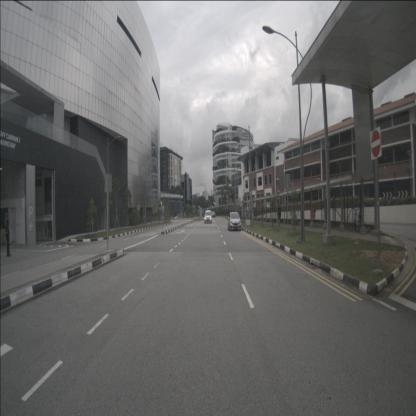human-pedestrian-adult: (4, 219, 11, 257), (276, 204, 282, 226)
movable_object-trafficcone: (2, 229, 5, 245)
vehicle-bicycle: (352, 207, 364, 233)
vehicle-car: (228, 212, 242, 230), (204, 210, 212, 224), (210, 211, 216, 218)
